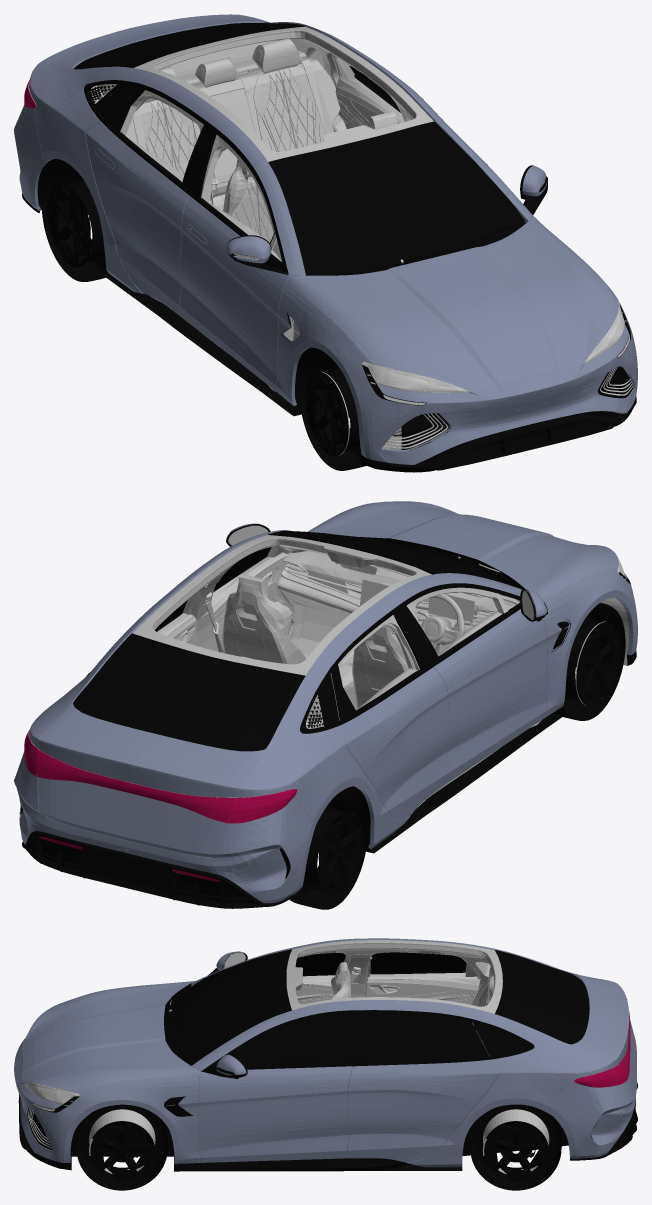
Rendered from seal.glb.
3 views of the same model, one above another, from view 1: azimuth 30°, elevation 25°; view 2: azimuth 150°, elevation 25°; view 3: azimuth 270°, elevation 25° (orthographic). The views are drawn at different scales.
Visible parts, largest first — view 1: Mesh_0001, Mesh_0, Mesh_0006, Mesh_0002, Mesh_0008, Mesh_0007, Mesh_0013, Mesh_0015, Mesh_0012; view 2: Mesh_0001, Mesh_0, Mesh_0006, Mesh_0002, Mesh_0003, Mesh_0008, Mesh_0004, Mesh_0007, Mesh_0005, Mesh_0011; view 3: Mesh_0001, Mesh_0, Mesh_0006, Mesh_0002, Mesh_0008, Mesh_0011, Mesh_0007, Mesh_0005, Mesh_0012, Mesh_0013, Mesh_0003, Mesh_0015.
Part boxes in pixels (left/top/right/bottom): Mesh_0001: left=29, top=14, right=629, bottom=405; Mesh_0: left=22, top=26, right=636, bottom=472; Mesh_0006: left=73, top=23, right=524, bottom=275; Mesh_0002: left=14, top=105, right=637, bottom=464; Mesh_0008: left=47, top=183, right=348, bottom=456; Mesh_0007: left=84, top=38, right=342, bottom=391; Mesh_0013: left=363, top=301, right=624, bottom=391; Mesh_0015: left=382, top=366, right=633, bottom=450; Mesh_0012: left=226, top=166, right=547, bottom=263; Mesh_0001: left=28, top=501, right=630, bottom=849; Mesh_0: left=20, top=524, right=636, bottom=909; Mesh_0006: left=73, top=531, right=511, bottom=751; Mesh_0002: left=14, top=573, right=637, bottom=903; Mesh_0003: left=37, top=777, right=227, bottom=857; Mesh_0008: left=318, top=622, right=619, bottom=894; Mesh_0004: left=36, top=750, right=236, bottom=823; Mesh_0007: left=85, top=588, right=541, bottom=807; Mesh_0005: left=24, top=730, right=297, bottom=823; Mesh_0011: left=372, top=706, right=565, bottom=853; Mesh_0001: left=22, top=938, right=629, bottom=1167; Mesh_0: left=16, top=940, right=637, bottom=1190; Mesh_0006: left=171, top=949, right=589, bottom=1066; Mesh_0002: left=14, top=1039, right=635, bottom=1162; Mesh_0008: left=89, top=1121, right=548, bottom=1180; Mesh_0011: left=174, top=1158, right=462, bottom=1171; Mesh_0007: left=367, top=954, right=534, bottom=1059; Mesh_0005: left=574, top=1064, right=626, bottom=1087; Mesh_0012: left=216, top=951, right=246, bottom=1075; Mesh_0013: left=25, top=1023, right=79, bottom=1103; Mesh_0003: left=626, top=1021, right=636, bottom=1100; Mesh_0015: left=27, top=1107, right=52, bottom=1150.
Bounding box in the file's own units: 0.0835 × 0.0579 × 0.1867.
